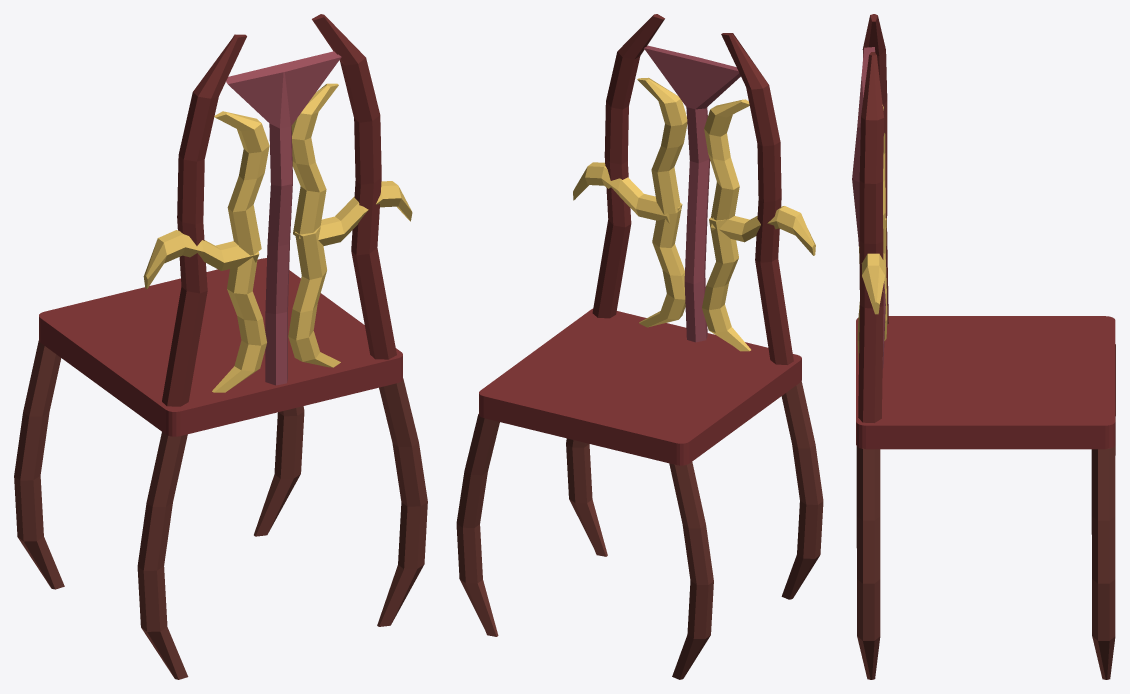
The model's file is Evil Chair.glb.
3 views of the same model, side by side, from view 1: azimuth 30°, elevation 25°; view 2: azimuth 150°, elevation 25°; view 3: azimuth 270°, elevation 25° (orthographic). The views are drawn at different scales.
Parts seen in each view (by area): view 1: Evil Chair; view 2: Evil Chair; view 3: Evil Chair.
Boxes of the visible parts, <box> form: Evil Chair: <box>14,14,427,679</box>; Evil Chair: <box>456,14,823,679</box>; Evil Chair: <box>852,14,1115,679</box>.
Bounding box in the file's own units: 0.5537 × 1.16 × 0.4677.
